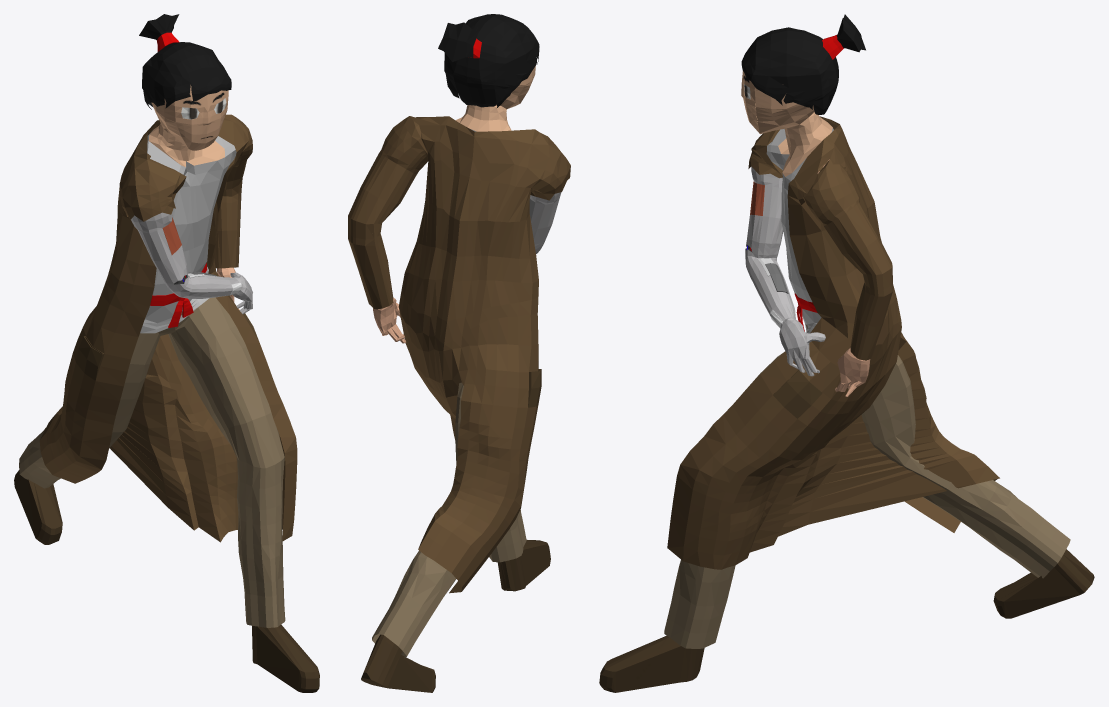
The model's file is One_RF_000011.obj.
The picture shows the model from 3 angles, left to right: view 1: azimuth 30°, elevation 25°; view 2: azimuth 150°, elevation 25°; view 3: azimuth 270°, elevation 25°; orthographic projection. The views are drawn at different scales.
Parts seen in each view (by area): view 1: Hair_Cube.004; view 2: Hair_Cube.004; view 3: Hair_Cube.004.
Part boxes in pixels (bbox=[...]): Hair_Cube.004: bbox=[14, 14, 319, 692]; Hair_Cube.004: bbox=[348, 14, 570, 692]; Hair_Cube.004: bbox=[599, 14, 1094, 692].
Size of the model in its own units: 1.1 by 3.76 by 2.59.
